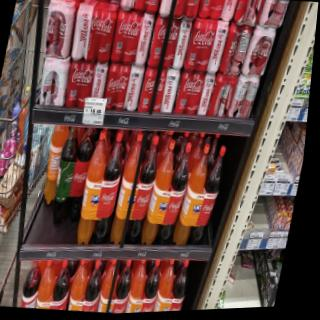beverage: (88, 135, 128, 245), (44, 123, 84, 228), (180, 139, 212, 245), (49, 0, 79, 60), (241, 19, 265, 83), (183, 14, 209, 72), (253, 23, 275, 78), (242, 74, 258, 117)
